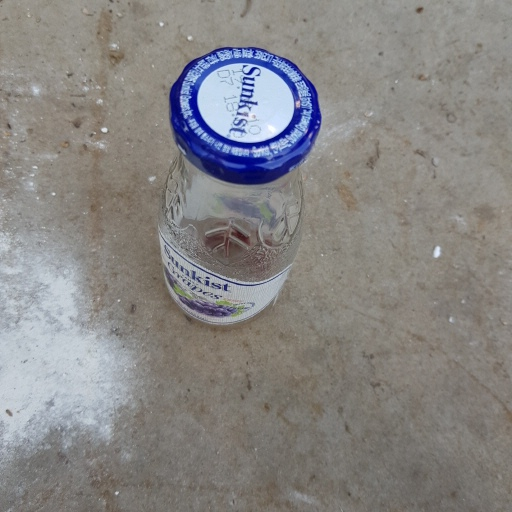Glass_4: (155, 47, 322, 328)
